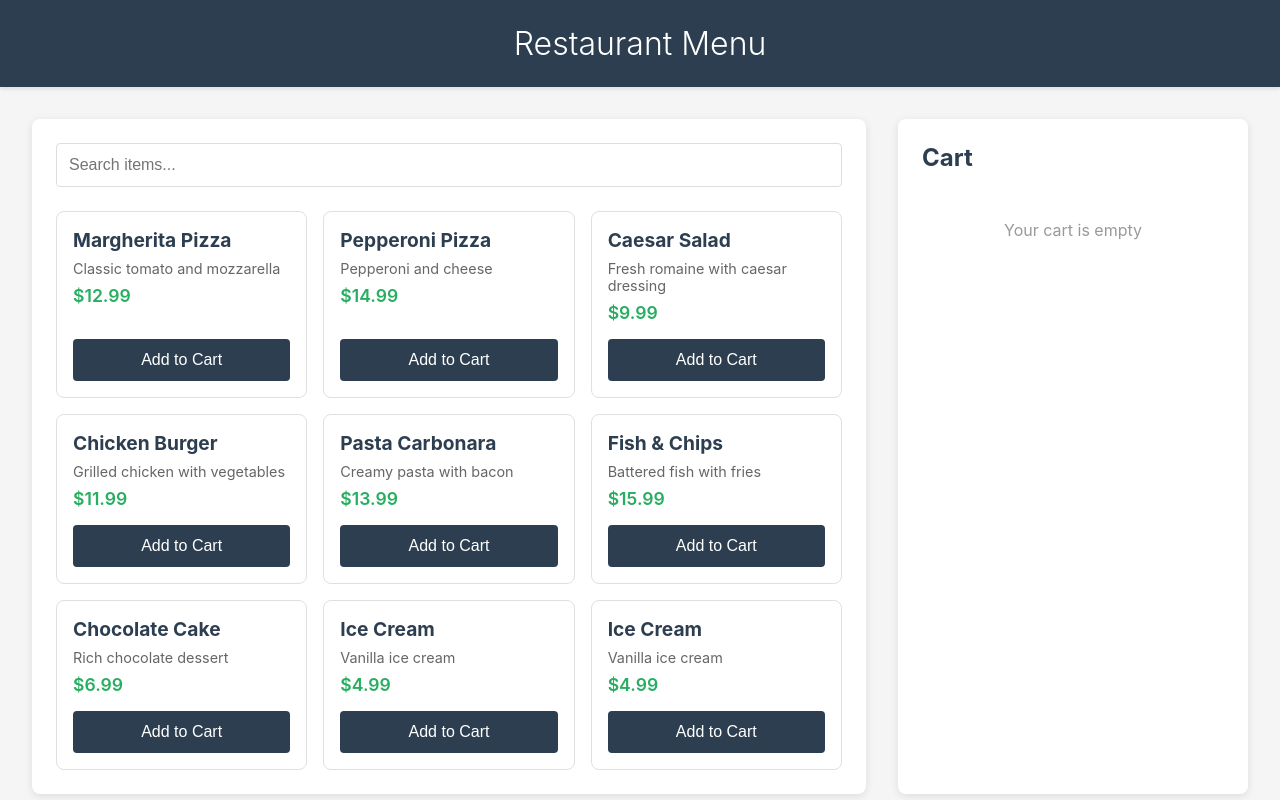
Test: App › adds item to cart when Add to Cart is clicked
Click the button "Add to Cart" below "12.99" at coordinates (182, 360), box x1=73 y1=339 x2=290 y2=381
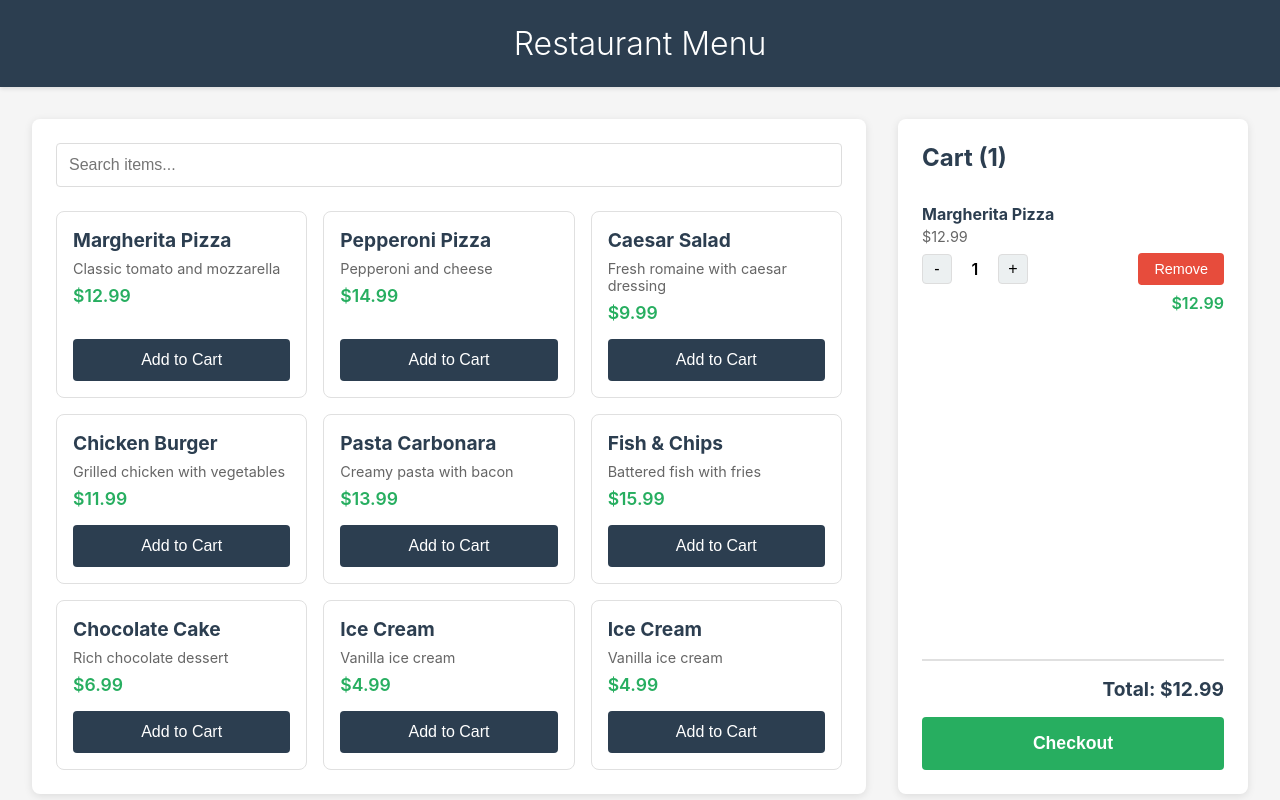
Result: the heading "Cart (1)" is shown at x1=922 y1=143 x2=1007 y2=172
Result: the text "Cart (1)" is shown at x1=898 y1=119 x2=1248 y2=794
Result: the heading "Margherita Pizza" below "Cart (" is shown at x1=922 y1=204 x2=1054 y2=224
